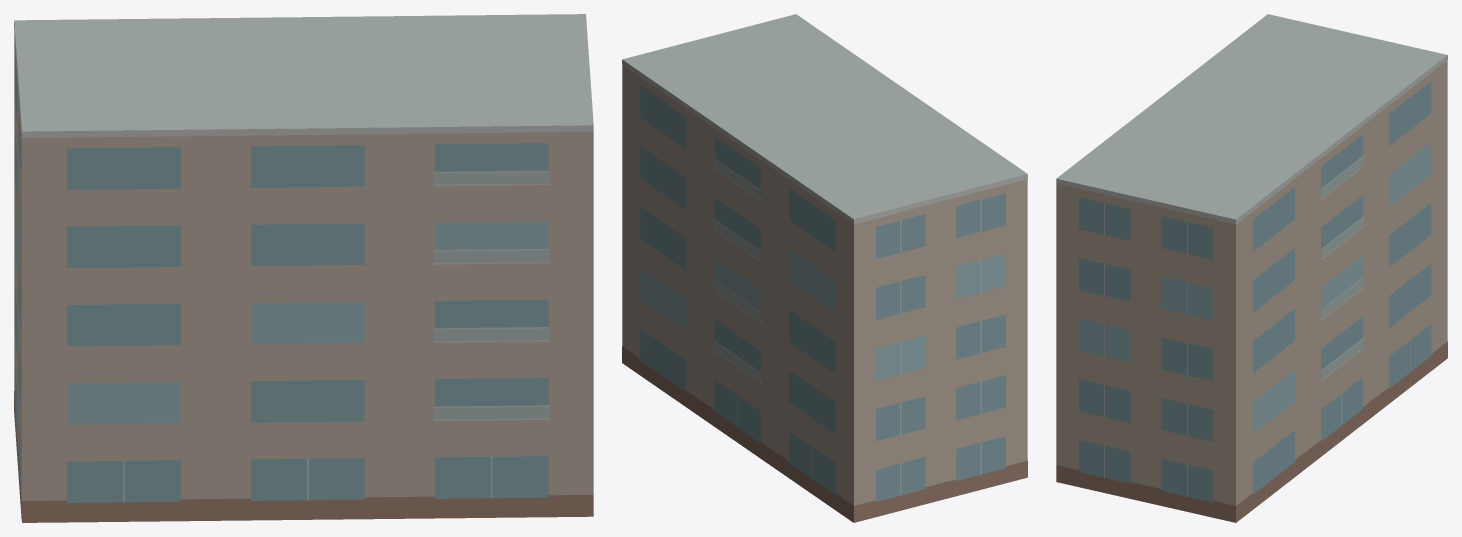
File: survey-upis-32656137.glb
3 renders of one model, left to right at view 1: azimuth 30°, elevation 25°; view 2: azimuth 150°, elevation 25°; view 3: azimuth 270°, elevation 25°, orthographic. The views are drawn at different scales.
Visible parts, largest first — view 1: survey-upis-32656137.tmp; view 2: survey-upis-32656137.tmp; view 3: survey-upis-32656137.tmp.
Part boxes in pixels (x1,y1,x2,y2): survey-upis-32656137.tmp: [14, 14, 593, 522]; survey-upis-32656137.tmp: [622, 14, 1027, 522]; survey-upis-32656137.tmp: [1056, 14, 1447, 522].
Bounding box in the file's own units: 21.52 × 14.8 × 17.32.
